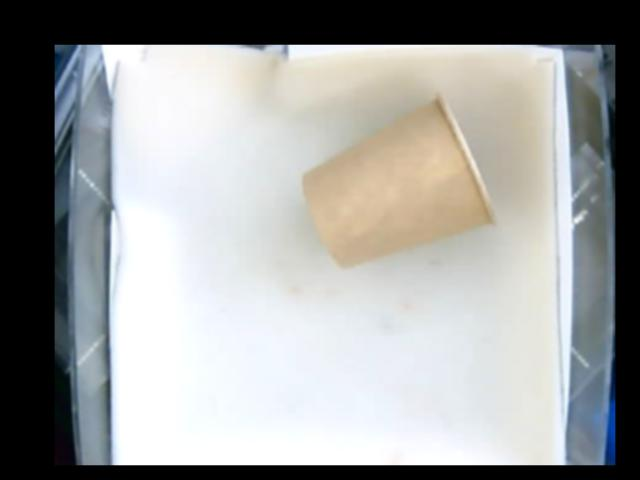Cup: (300, 94, 500, 266)
